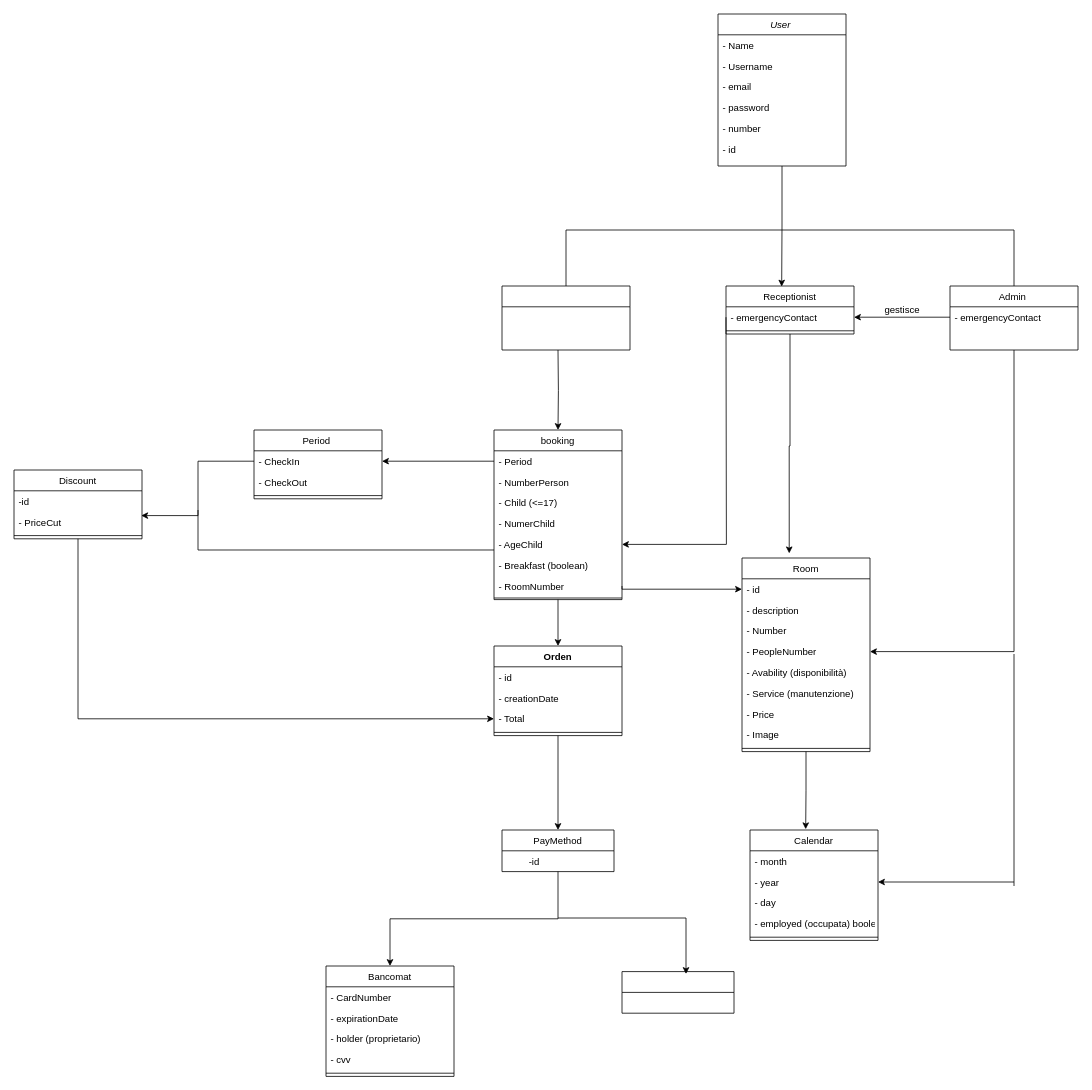
The diagram is 1092 pixels wide and 1090 high, and some of its shapes have lost their labels. The shapes that lost their labels are listed below. From the top down, each one's centre as x and y in pixels, then its label:
At point (565, 317): "RegisteredUser".
At point (677, 992): "Cash".
